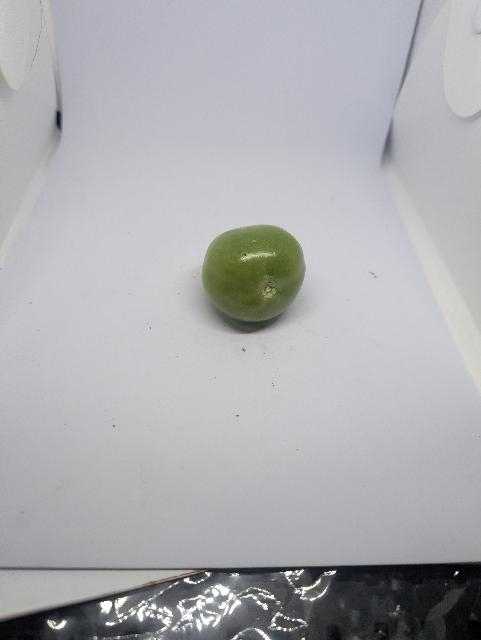green: (200, 222, 309, 327)
